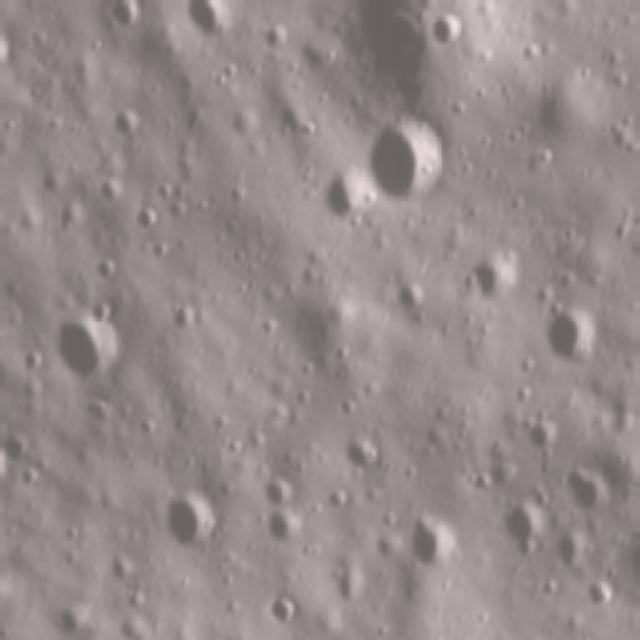crater: (370, 115, 452, 210), (60, 298, 122, 390), (163, 497, 223, 552), (498, 502, 547, 567), (548, 308, 600, 369), (412, 506, 458, 571), (472, 253, 525, 304), (321, 172, 377, 213), (570, 467, 616, 515), (396, 276, 436, 324), (186, 1, 237, 38), (350, 428, 385, 478), (556, 528, 593, 574), (45, 601, 97, 633), (526, 419, 563, 456), (266, 592, 303, 628), (432, 10, 468, 47), (108, 2, 148, 35), (258, 474, 299, 506), (112, 106, 148, 142), (277, 98, 306, 138), (263, 511, 303, 538), (171, 299, 203, 330), (5, 427, 33, 462), (104, 550, 138, 578), (134, 203, 157, 237), (264, 24, 294, 50), (332, 487, 354, 521), (21, 466, 50, 491)
